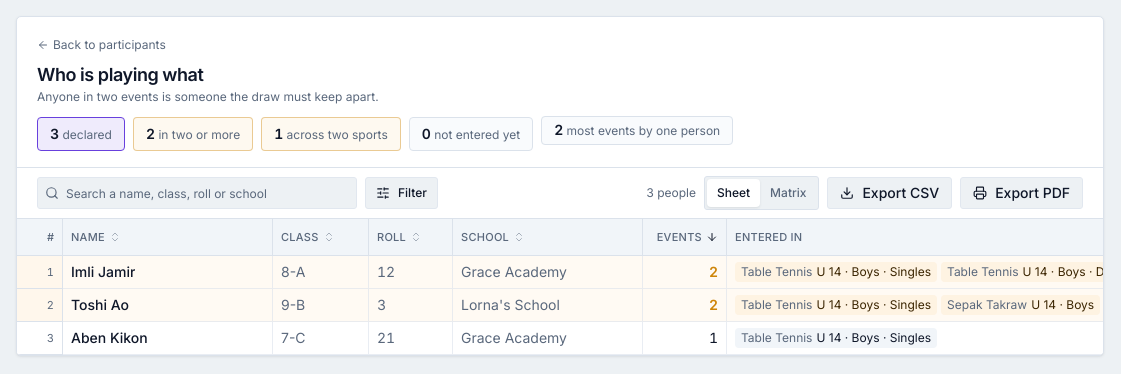
Test: ParticipationPage › the multi count IS the filter: clicking it shows exactly those people
What coordinates should you click on to do the following:
click the button with test id "stat-multi"
I would click on:
 (193, 134)
Its box is [133,117,253,151].
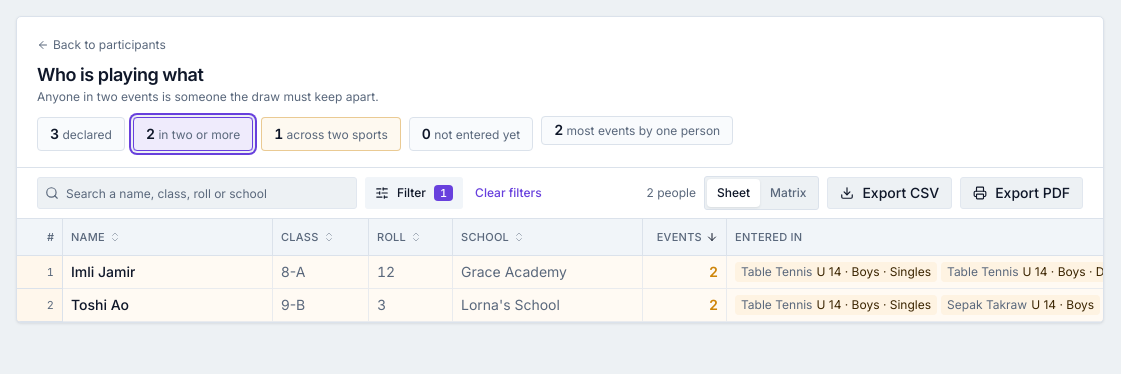
Expected: the row with test id "participation-m1" is shown, [17,256,1103,289]
Expected: the row with test id "participation-m3" is gone
